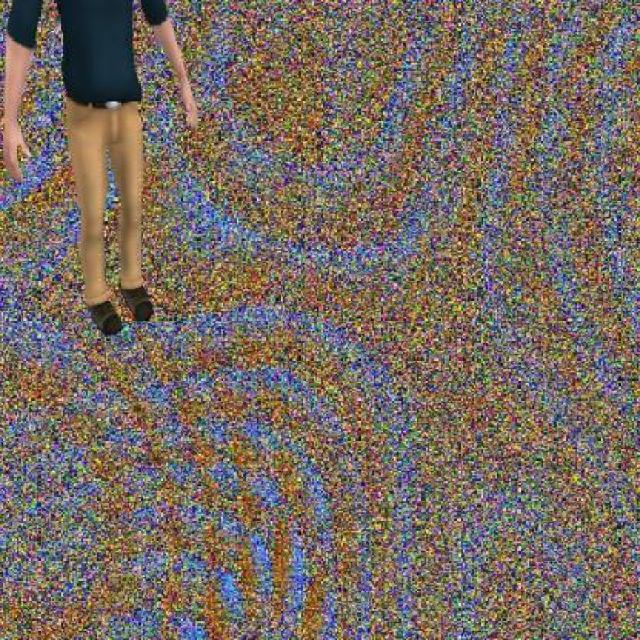Person: (0, 0, 204, 338)
